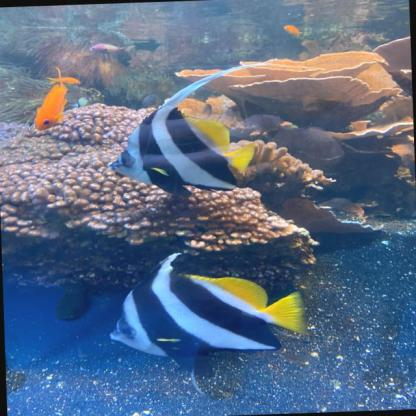fish: (108, 261, 306, 376), (106, 106, 254, 199), (33, 83, 70, 131)
